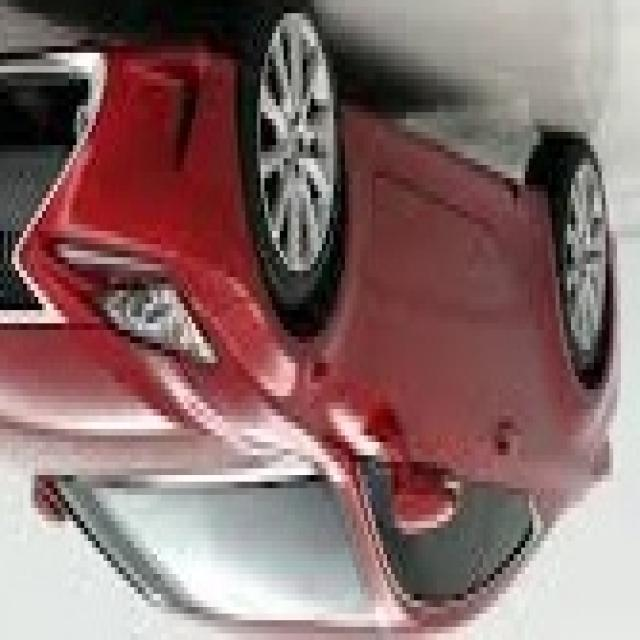maroon: (0, 120, 623, 640)
